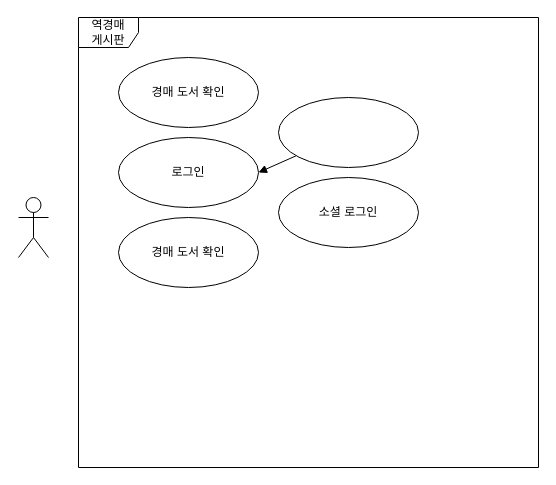
Image size: 556x485. Some labels were removed from this diagram. Each missing label, with the box of its shape:
ID, PWD 로그인: (278, 96, 418, 168)
사용자: (18, 196, 48, 258)
